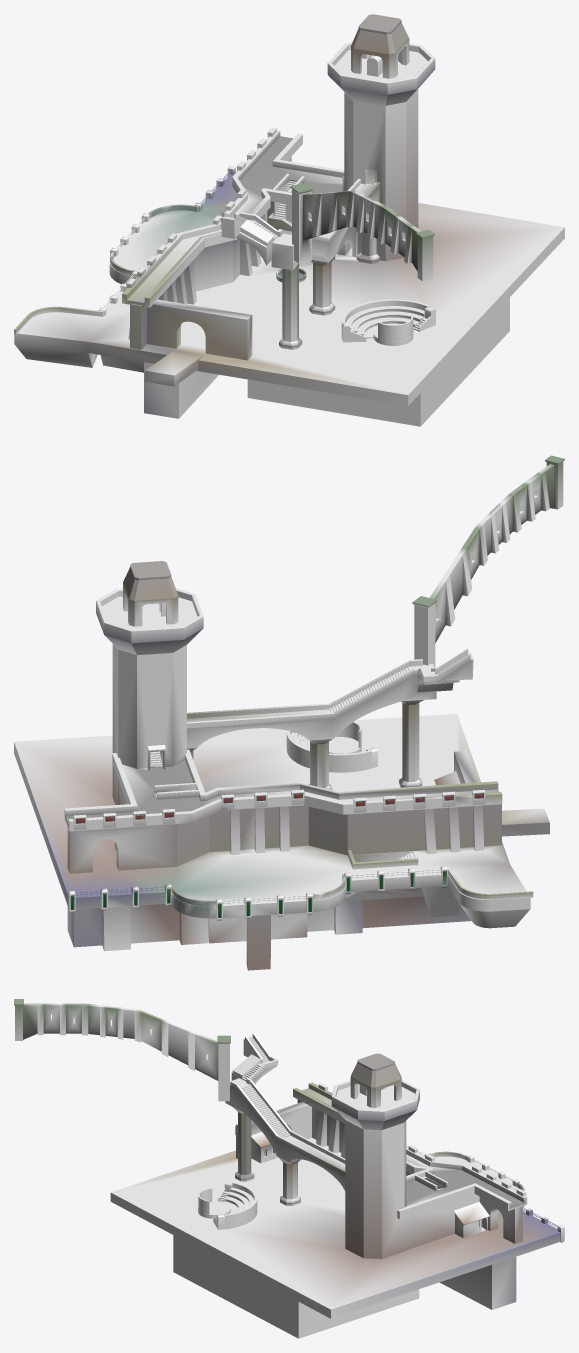
The model's file is castel.glb.
3 views of the same model, one above another, from view 1: azimuth 30°, elevation 25°; view 2: azimuth 150°, elevation 25°; view 3: azimuth 270°, elevation 25° (orthographic). The views are drawn at different scales.
Parts seen in each view (by area): view 1: CASTLE; view 2: CASTLE; view 3: CASTLE.
Part boxes in pixels (bbox=[...]): CASTLE: bbox=[14, 14, 564, 426]; CASTLE: bbox=[14, 455, 564, 970]; CASTLE: bbox=[14, 999, 564, 1338].
Bounding box in the file's own units: 98.99 × 55.58 × 109.
